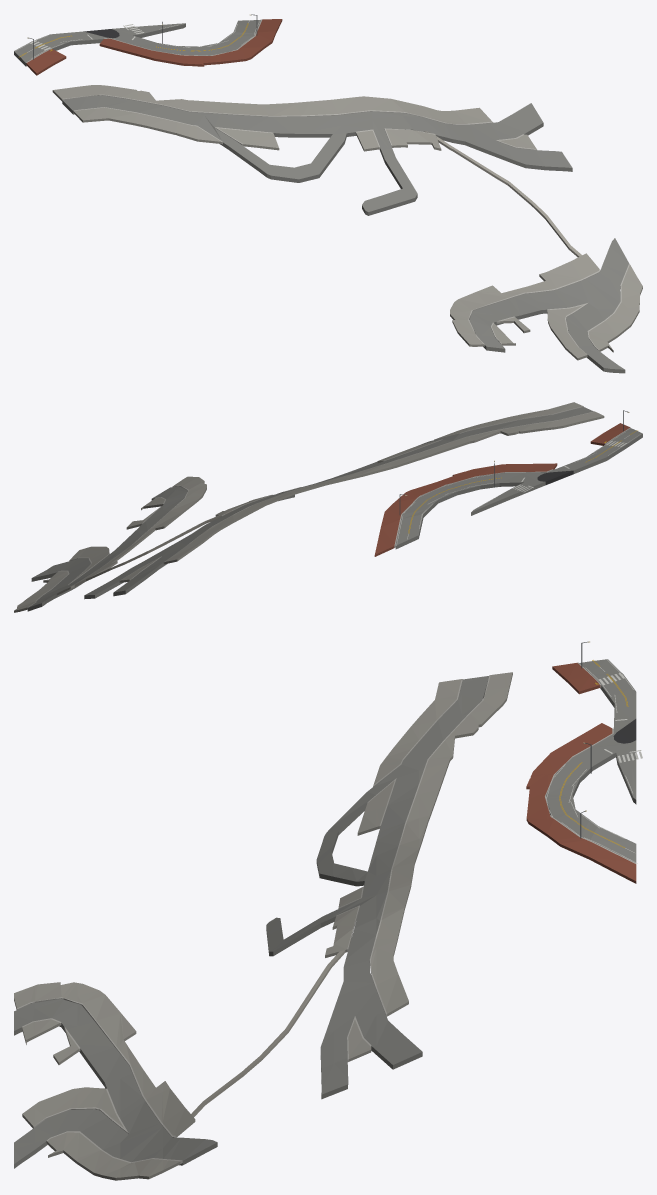
The picture shows the model from 3 angles, top to bottom: view 1: azimuth 30°, elevation 25°; view 2: azimuth 210°, elevation 25°; view 3: azimuth 270°, elevation 25°; orthographic projection. The views are drawn at different scales.
Bounding box in the file's own units: 147 × 80.19 × 147.
